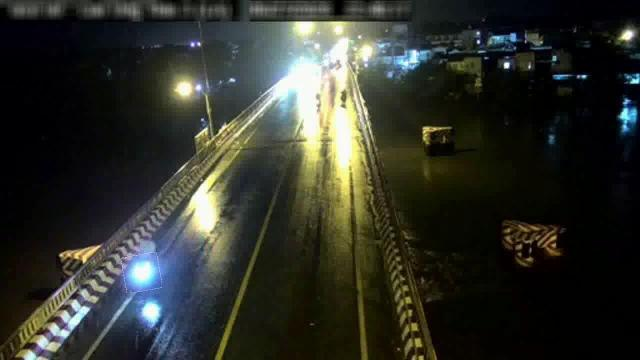Bike: (122, 253, 162, 292), (338, 88, 350, 108), (314, 92, 322, 110)
